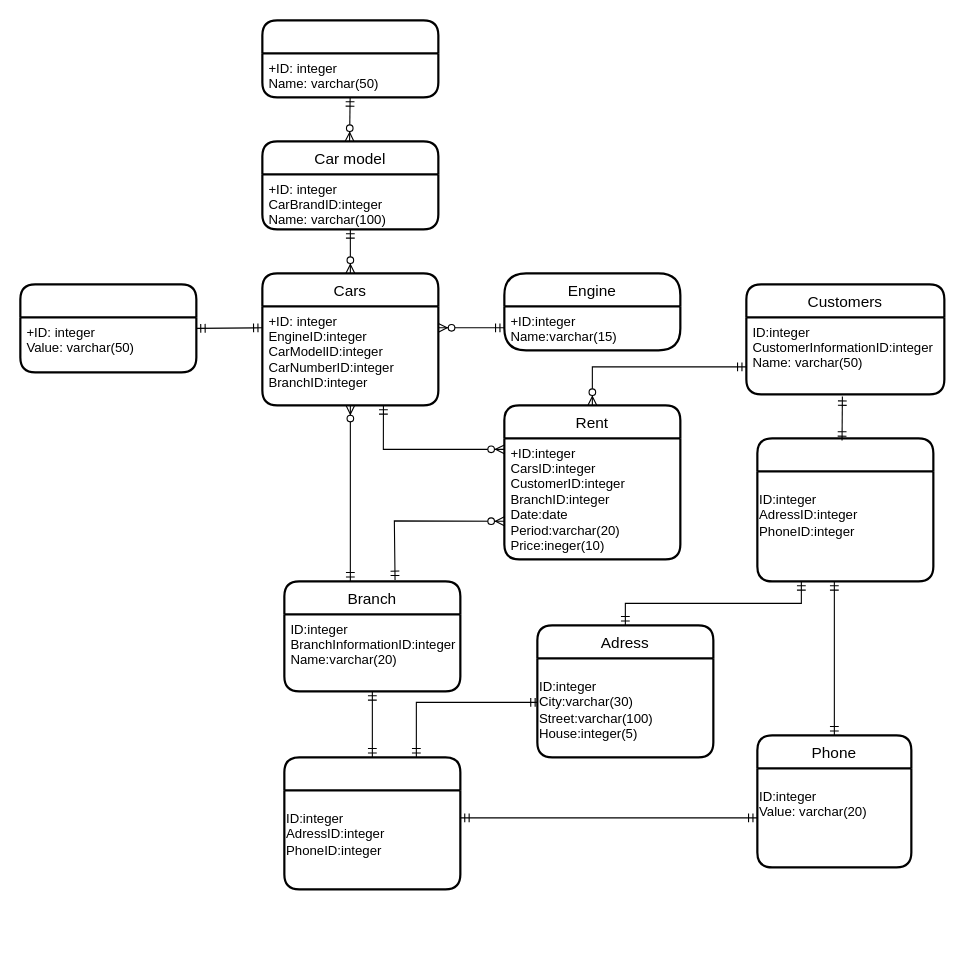
Image size: 964x968. Some labels were removed from this diagram. The shapes that lost their labels are listed below. From the top down, each one's box as (x1, y1, x2, y2) in pixels, then its label:
(261, 19, 439, 98): Car brand
(19, 283, 197, 373): Car number
(756, 437, 934, 582): Customer Information
(283, 756, 461, 890): Branch Information
